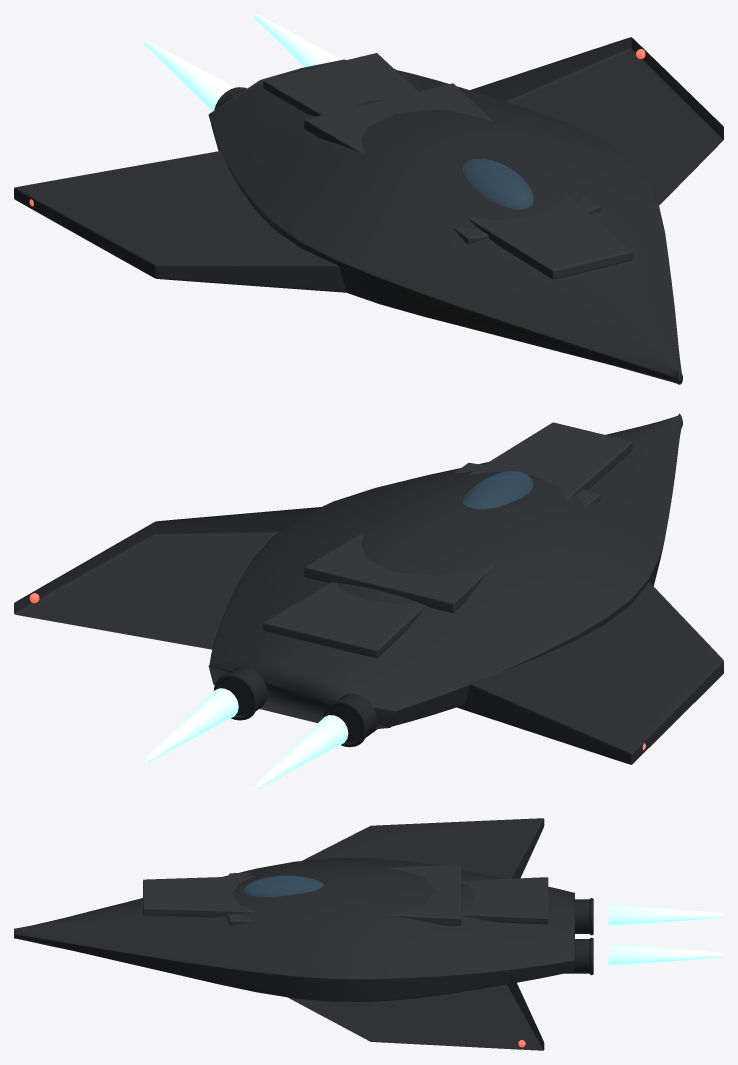
File: wedge_fighter.glb
3 views of the same model, one above another, from view 1: azimuth 30°, elevation 25°; view 2: azimuth 150°, elevation 25°; view 3: azimuth 270°, elevation 25° (orthographic). The views are drawn at different scales.
Visible parts, largest first — view 1: Hull, Wing_R, Wing_L, Canopy, Exhaust_R, Exhaust_L; view 2: Hull, Wing_R, Wing_L, Exhaust_L, Exhaust_R, Canopy, Engine_R, Engine_L; view 3: Hull, Wing_L, Wing_R, Exhaust_R, Exhaust_L, Canopy, Engine_L, Engine_R.
Part boxes in pixels (<box>): Hull: <box>208,53,682,384</box>; Wing_R: <box>14,150,346,292</box>; Wing_L: <box>470,37,723,205</box>; Canopy: <box>463,159,533,209</box>; Exhaust_R: <box>144,41,234,111</box>; Exhaust_L: <box>254,14,341,67</box>; Hull: <box>208,413,682,729</box>; Wing_R: <box>457,582,723,764</box>; Wing_L: <box>14,507,320,649</box>; Exhaust_L: <box>144,688,238,762</box>; Exhaust_R: <box>254,715,348,789</box>; Canopy: <box>463,471,533,509</box>; Engine_R: <box>323,693,377,747</box>; Engine_L: <box>214,667,267,720</box>; Hull: <box>14,858,574,1001</box>; Wing_L: <box>288,971,544,1050</box>; Wing_R: <box>302,818,544,878</box>; Exhaust_R: <box>608,903,723,927</box>; Exhaust_L: <box>608,943,723,966</box>; Canopy: <box>243,875,322,896</box>; Engine_L: <box>564,937,593,975</box>; Engine_R: <box>575,898,593,935</box>.
Bounding box in the file's own units: 6.99 × 1.23 × 9.37.
